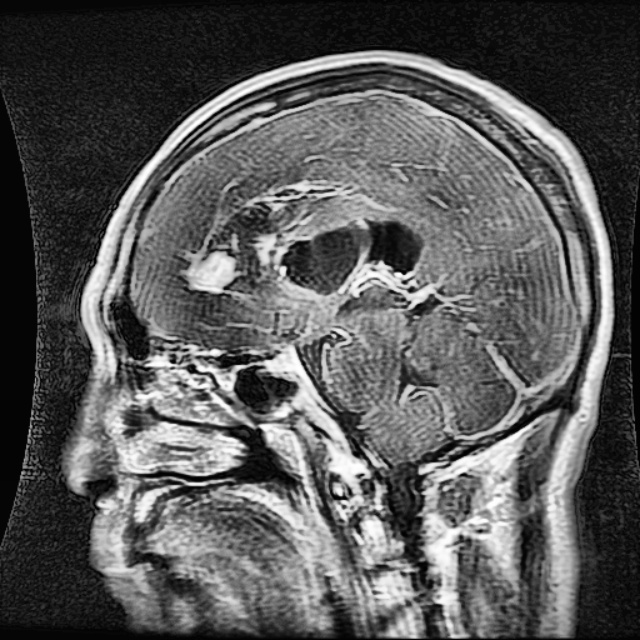Meningioma: (183, 199, 444, 318)
